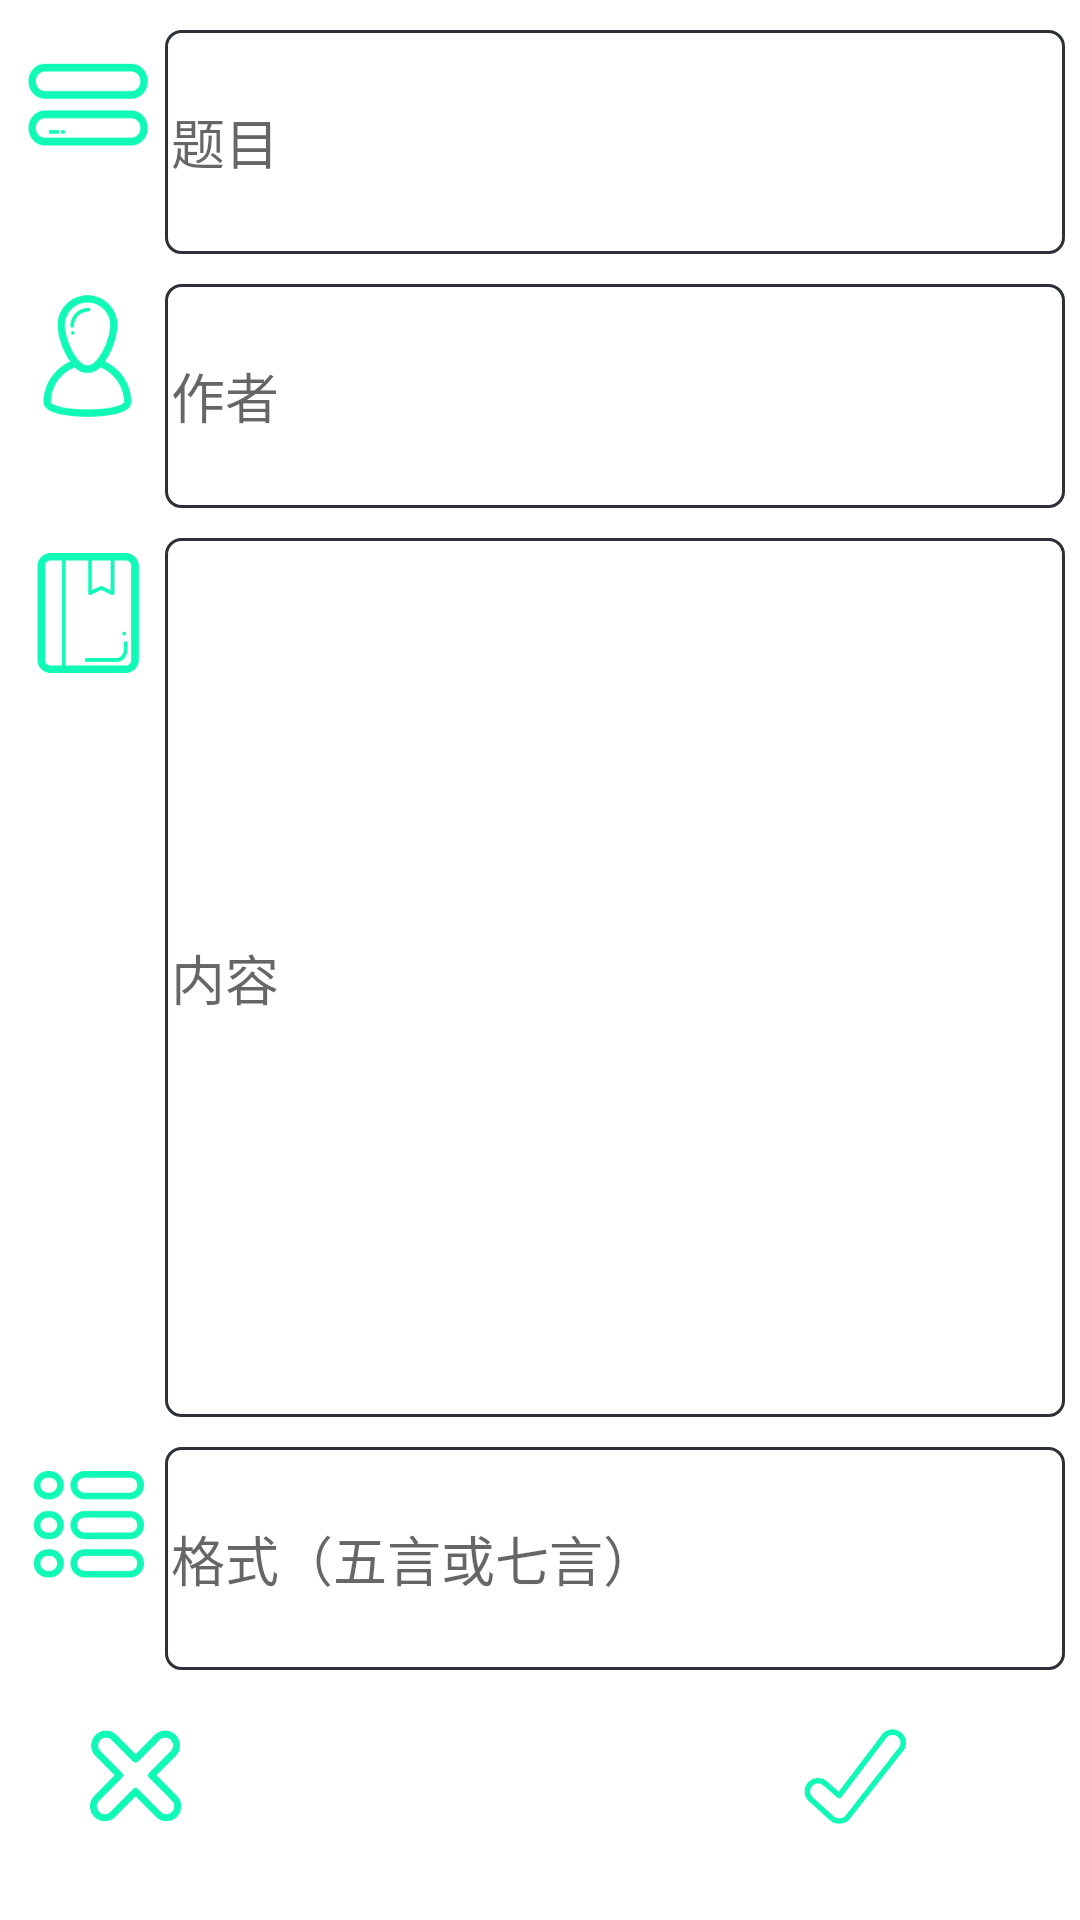

Icons on this 1080*1920 Android screen, each with its box as detection(x1, y1, x2, y2):
author: detection(43, 295, 132, 417)
content: detection(37, 553, 139, 673)
right: detection(804, 1729, 906, 1824)
title: detection(28, 63, 148, 146)
type: detection(33, 1471, 144, 1578)
wrong: detection(90, 1730, 181, 1821)
